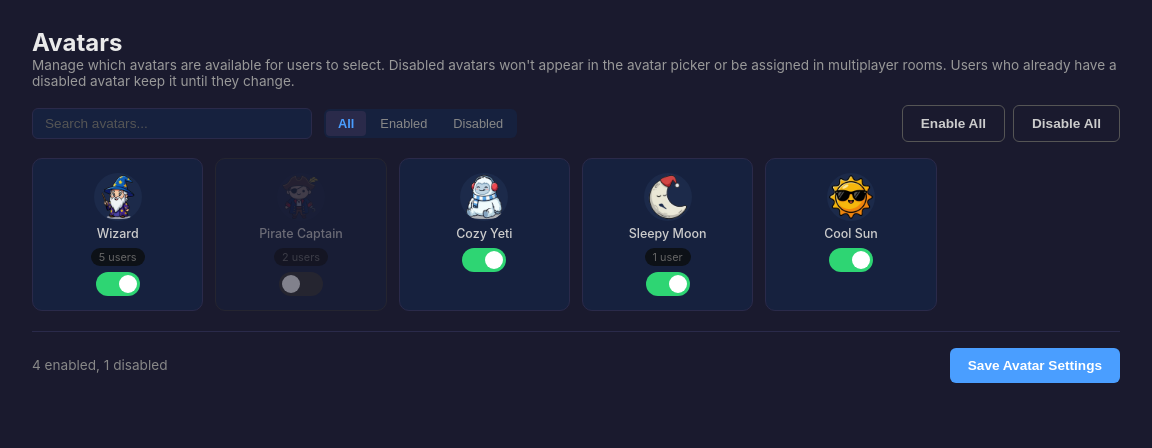
Scenario: AdminAvatarsPage › filters by search query
Type "wizard" into the field with test id "avatars-search". click: (172, 124)
box: [32,108,312,139]
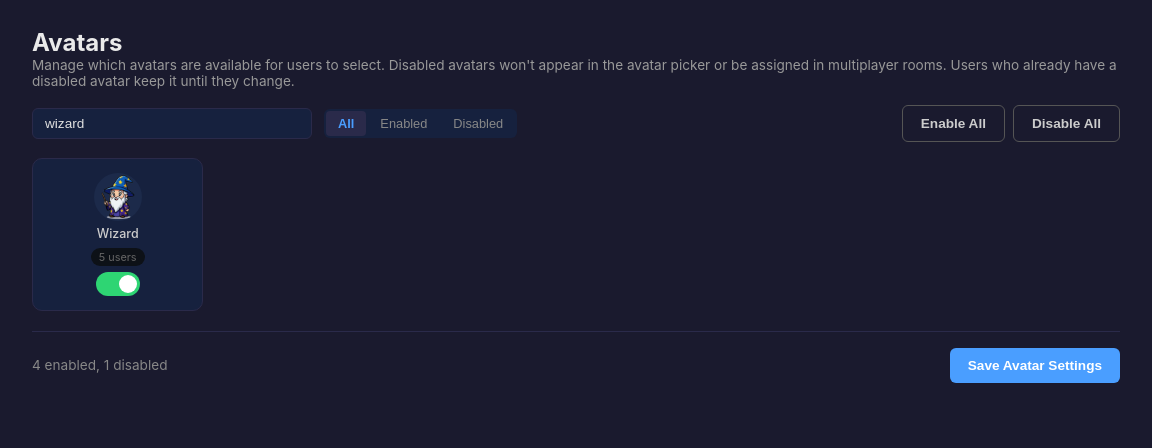
Check: the element with test id "avatar-card-wizard" is shown, box [32,158,203,311]
Check: the element with test id "avatar-card-pirate" is gone
